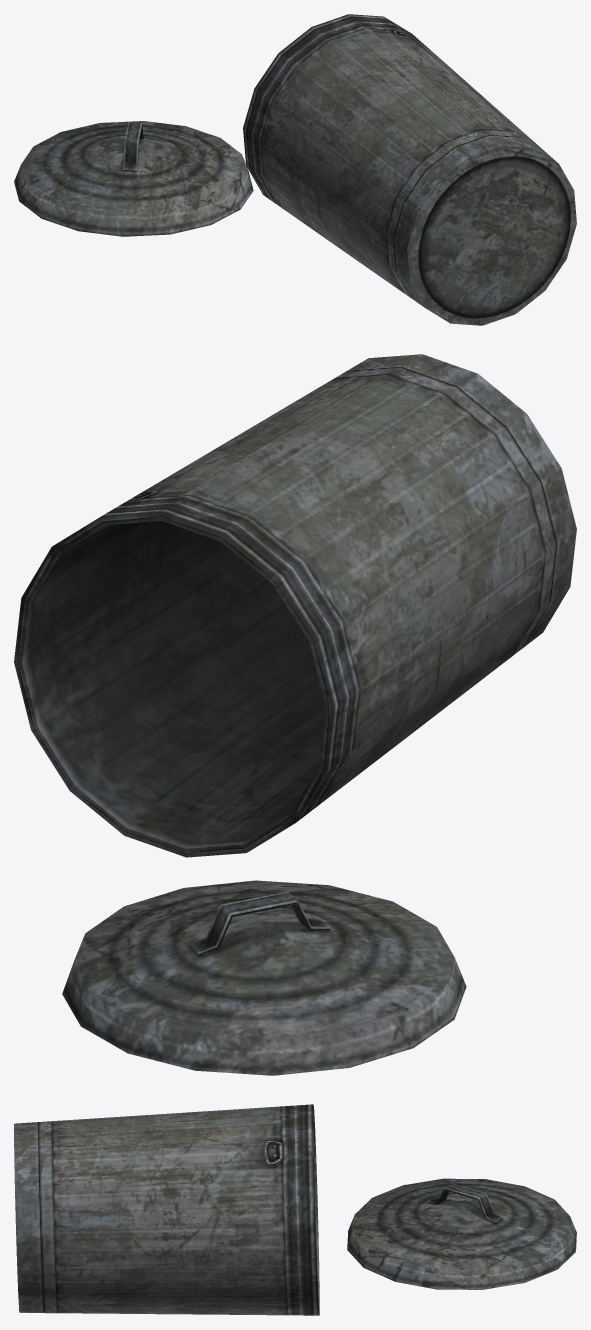
The model's file is Trash2.fbx.
3 views of the same model, one above another, from view 1: azimuth 30°, elevation 25°; view 2: azimuth 150°, elevation 25°; view 3: azimuth 270°, elevation 25° (orthographic). The views are drawn at different scales.
Parts seen in each view (by area): view 1: polySurface6; view 2: polySurface6; view 3: polySurface6.
Boxes of the visible parts, left/top/right/bottom form: polySurface6: left=14, top=14, right=576, bottom=325; polySurface6: left=14, top=354, right=576, bottom=1075; polySurface6: left=14, top=1104, right=576, bottom=1315.
Bounding box in the file's own units: 1.2 × 0.6984 × 1.85.
